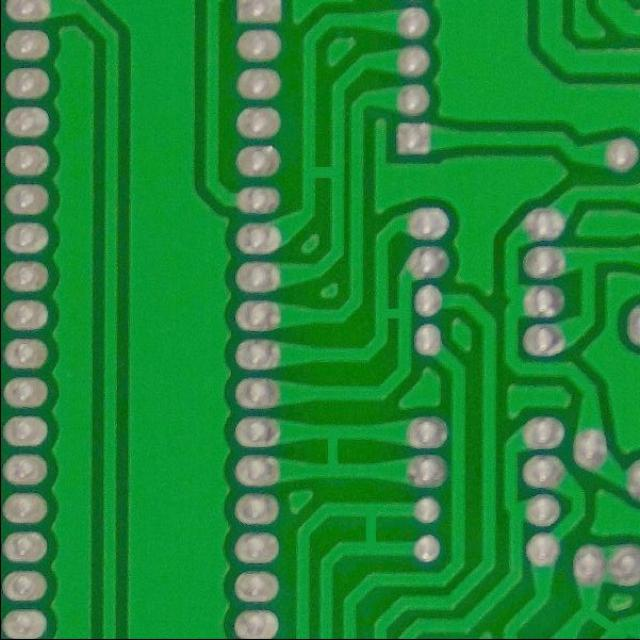short: (306, 421, 350, 484), (366, 290, 416, 340), (297, 147, 345, 199), (572, 600, 637, 638), (350, 503, 388, 558)
